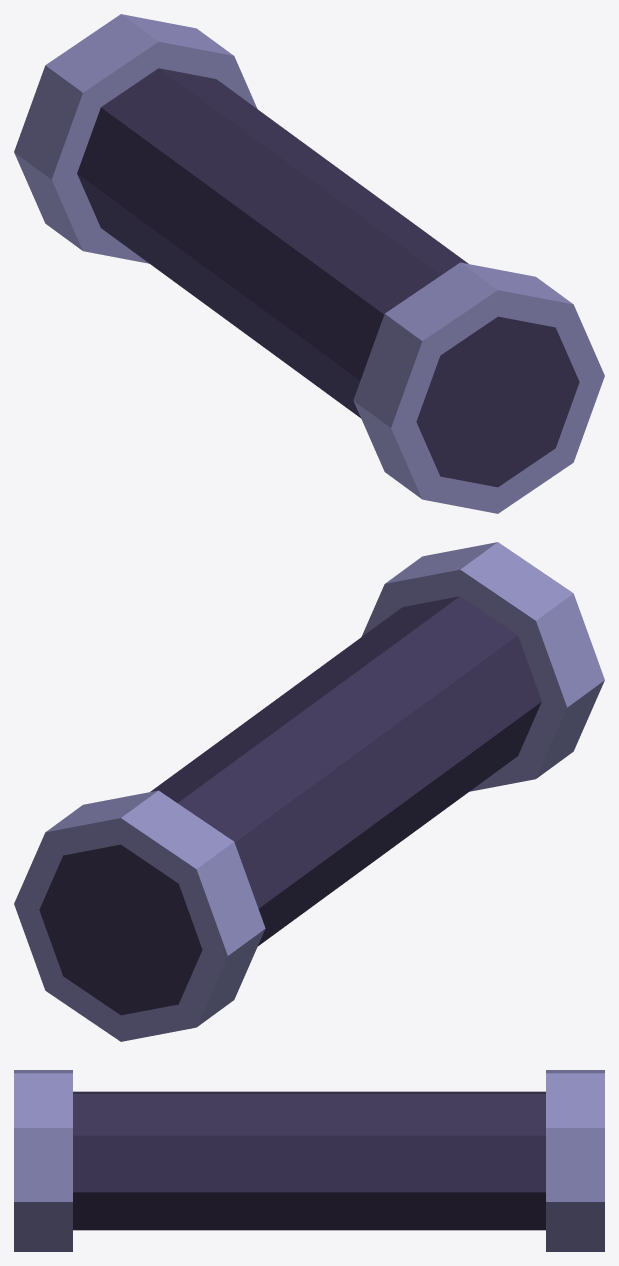
File: Pipe_Middle_Horizontal.fbx
3 views of the same model, one above another, from view 1: azimuth 30°, elevation 25°; view 2: azimuth 150°, elevation 25°; view 3: azimuth 270°, elevation 25° (orthographic). The views are drawn at different scales.
Visible parts, largest first — view 1: Pipe_Horizontal; view 2: Pipe_Horizontal; view 3: Pipe_Horizontal.
Part boxes in pixels (box(x1,y1,x2,y2)): Pipe_Horizontal: box(14, 14, 604, 513); Pipe_Horizontal: box(14, 542, 604, 1041); Pipe_Horizontal: box(14, 1070, 604, 1251).
Bounding box in the file's own units: 0.3276 × 0.3276 × 1.
